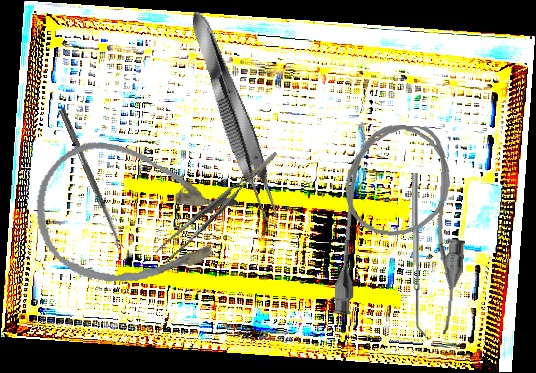Cannula: (23, 132, 244, 303), (332, 121, 473, 335)
Spatula Surgical: (411, 172, 427, 338)
Surgical Spoon: (58, 108, 124, 251)
Tissue Forceps: (182, 6, 287, 225), (146, 151, 293, 265)
